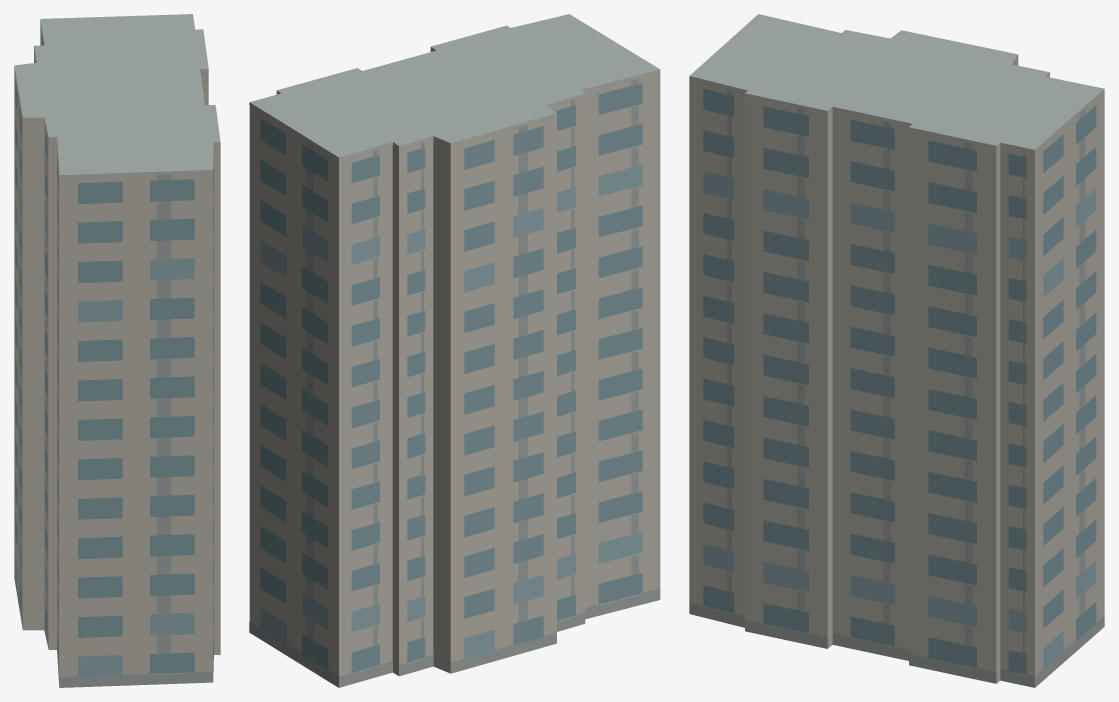
Rendered from residential-96452725-2b56-4f20-9492-0324bfe7cec7.glb.
The picture shows the model from 3 angles, left to right: view 1: azimuth 30°, elevation 25°; view 2: azimuth 150°, elevation 25°; view 3: azimuth 270°, elevation 25°; orthographic projection. The views are drawn at different scales.
Visible parts, largest first — view 1: residential-96452725-2b56-4f20-9492-0324bfe7cec7.tmp; view 2: residential-96452725-2b56-4f20-9492-0324bfe7cec7.tmp; view 3: residential-96452725-2b56-4f20-9492-0324bfe7cec7.tmp.
Part boxes in pixels (left/top/right/bottom): residential-96452725-2b56-4f20-9492-0324bfe7cec7.tmp: left=14, top=14, right=220, bottom=687; residential-96452725-2b56-4f20-9492-0324bfe7cec7.tmp: left=249, top=14, right=660, bottom=687; residential-96452725-2b56-4f20-9492-0324bfe7cec7.tmp: left=689, top=14, right=1104, bottom=687.
Size of the model in its own units: 21.49 by 39.65 by 27.74.
